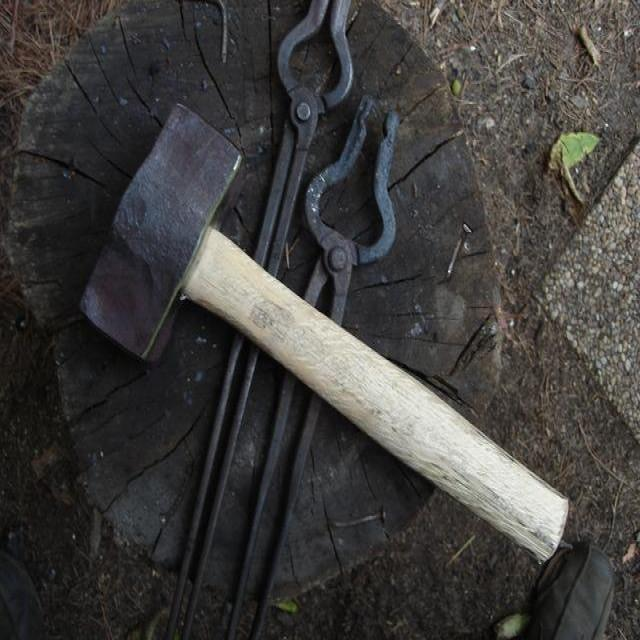hammer: (73, 87, 568, 600)
pliers: (245, 0, 372, 259), (306, 75, 414, 315)
